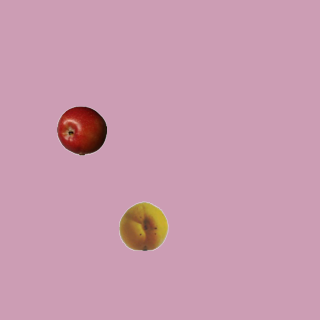Apple Braeburn: (56, 105, 106, 155)
Peach 2: (118, 200, 168, 250)
